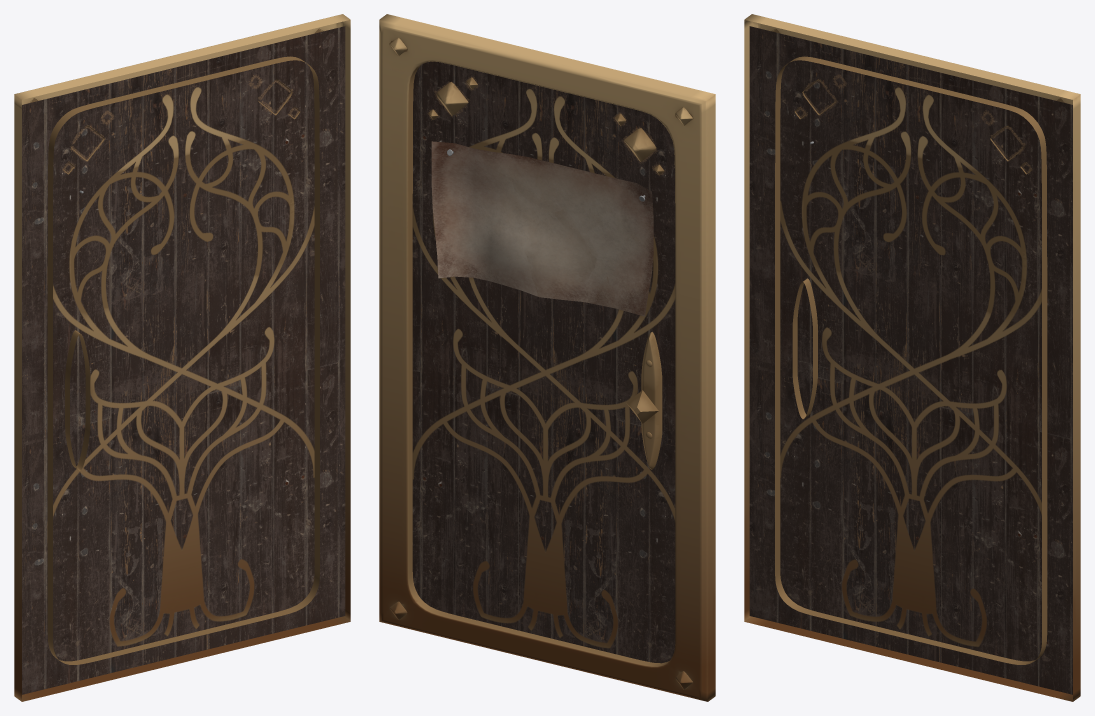
The model's file is Porte POUKI.fbx.
3 renders of one model, left to right at view 1: azimuth 30°, elevation 25°; view 2: azimuth 150°, elevation 25°; view 3: azimuth 330°, elevation 25°, orthographic.
Parts seen in each view (by area): view 1: Plane.001; view 2: Plane.001; view 3: Plane.001.
Part boxes in pixels (x1,y1,x2,y2): Plane.001: (14,14,350,701); Plane.001: (379,14,715,701); Plane.001: (744,14,1080,701).
Size of the model in its own units: 120 by 210 by 12.41.
